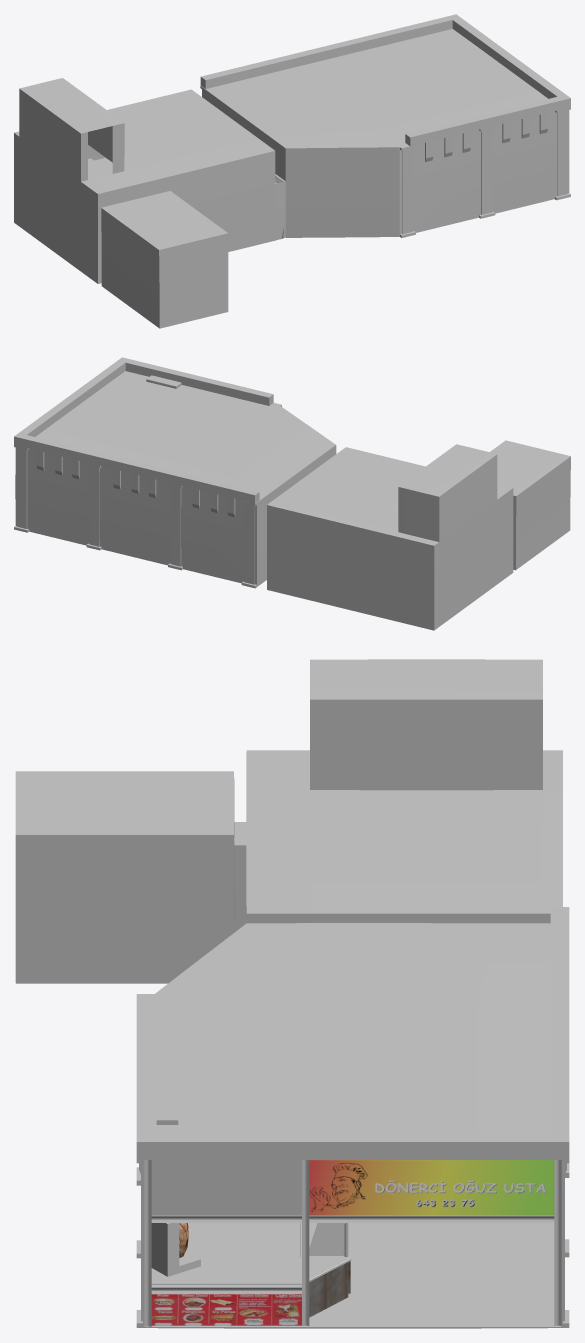
3 renders of one model, top to bottom at view 1: azimuth 30°, elevation 25°; view 2: azimuth 150°, elevation 25°; view 3: azimuth 270°, elevation 25°, orthographic. The views are drawn at different scales.
Visible parts, largest first — view 1: Plane.002, Section2, Cube.002; view 2: Plane.002, Section2, Cube.015; view 3: Section2, Plane.002, Plane.001, DısDestek.004, DısDestek.003, DısDestek.001, DonerTezgahMermer, DonerOcagi, DonerTezgah, DonerTezgahCam.
Part boxes in pixels (x1,y1,x2,y2): Plane.002: (200, 14, 570, 237); Section2: (14, 78, 285, 328); Cube.002: (82, 157, 112, 181); Plane.002: (14, 357, 336, 588); Section2: (267, 440, 570, 630); Cube.015: (36, 450, 235, 517); Section2: (15, 659, 562, 983); Plane.002: (136, 907, 569, 1327); Plane.001: (143, 1223, 562, 1328); DısDestek.004: (309, 1160, 554, 1215); DısDestek.003: (151, 1160, 301, 1215); DısDestek.001: (151, 1294, 301, 1325); DonerTezgahMermer: (151, 1223, 351, 1284); DonerOcagi: (151, 1223, 200, 1276); DonerTezgah: (309, 1261, 350, 1317); DonerTezgahCam: (309, 1223, 343, 1255).
Size of the model in its own units: 2407 by 716 by 1378.
